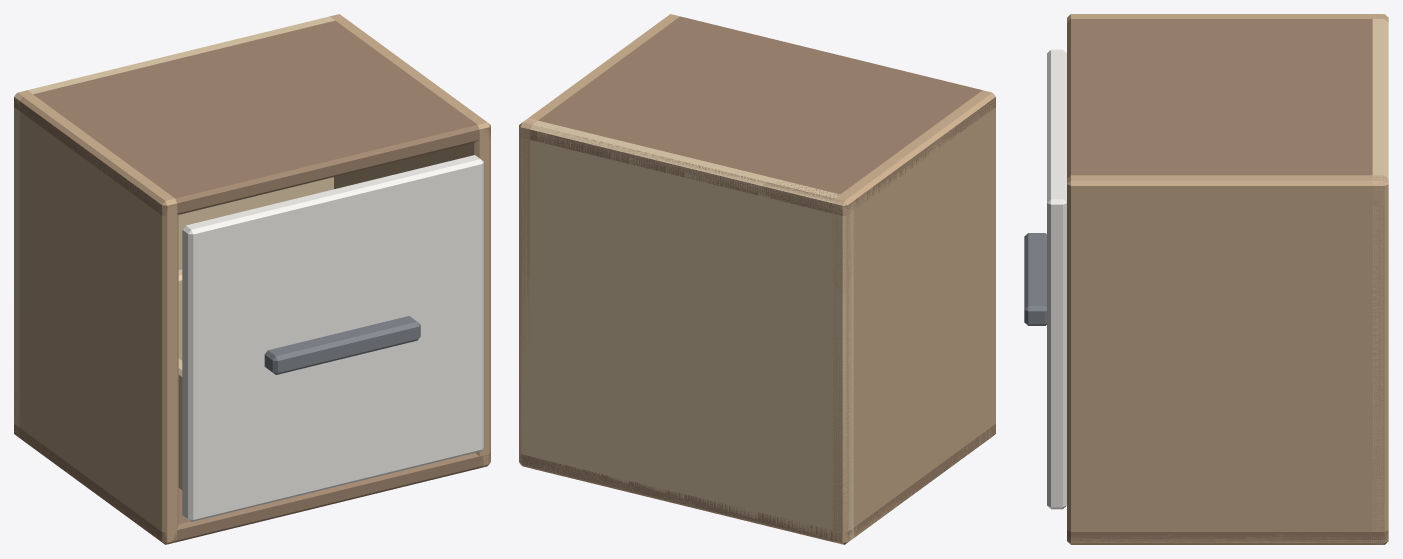
Rendered from Drawer_1x1.glb.
The picture shows the model from 3 angles, left to right: view 1: azimuth 30°, elevation 25°; view 2: azimuth 150°, elevation 25°; view 3: azimuth 270°, elevation 25°; orthographic projection. The views are drawn at different scales.
Parts seen in each view (by area): view 1: WallSysDrawer11_Body, WallSysDrawer11_Drawer; view 2: WallSysDrawer11_Body; view 3: WallSysDrawer11_Body, WallSysDrawer11_Drawer.
Boxes of the visible parts, x1=… form: WallSysDrawer11_Body: x1=14, y1=14, x2=490, y2=544; WallSysDrawer11_Drawer: x1=178, y1=155, x2=483, y2=521; WallSysDrawer11_Body: x1=519, y1=14, x2=995, y2=544; WallSysDrawer11_Body: x1=1067, y1=14, x2=1388, y2=544; WallSysDrawer11_Drawer: x1=1024, y1=49, x2=1066, y2=509.
Bounding box in the file's own units: 0.4 × 0.4 × 0.3625.
